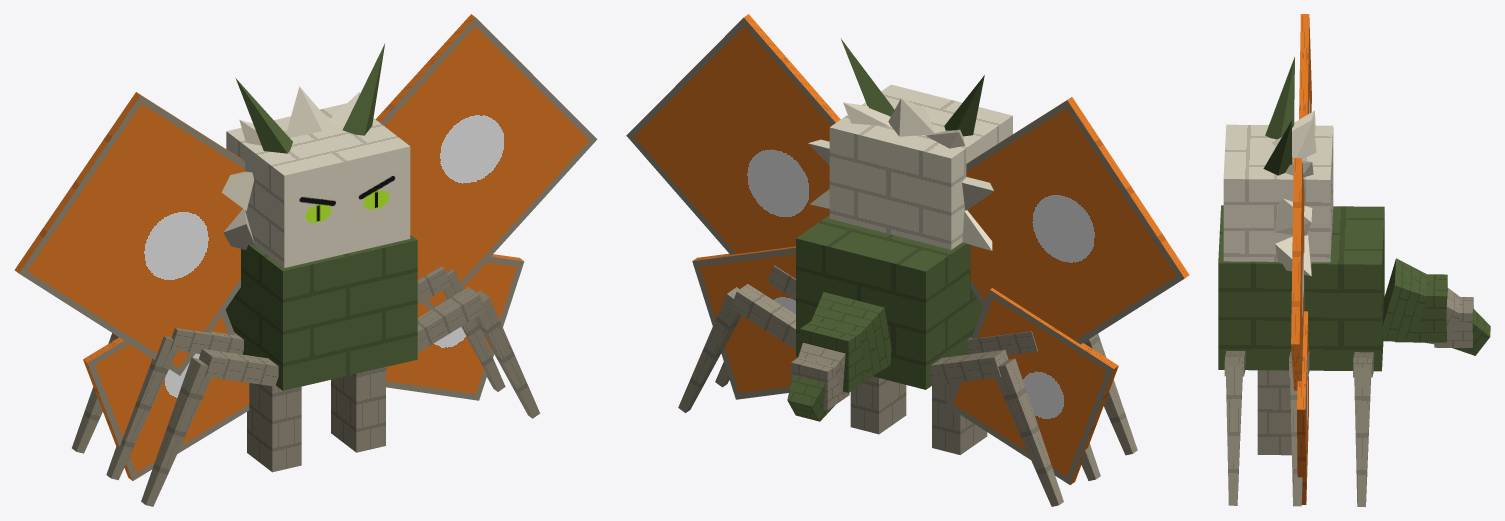
Rendered from brainmon_02.glb.
The picture shows the model from 3 angles, left to right: view 1: azimuth 30°, elevation 25°; view 2: azimuth 150°, elevation 25°; view 3: azimuth 270°, elevation 25°; orthographic projection. The views are drawn at different scales.
Visible parts, largest first — view 1: Brainmon_02_moth_spider; view 2: Brainmon_02_moth_spider; view 3: Brainmon_02_moth_spider.
Part boxes in pixels (x1,y1,x2,y2): Brainmon_02_moth_spider: (14, 14, 597, 506); Brainmon_02_moth_spider: (626, 14, 1189, 506); Brainmon_02_moth_spider: (1218, 14, 1490, 506).
Size of the model in its own units: 2.75 by 1.78 by 1.27.
Materials: 1 (1 with a texture image).
